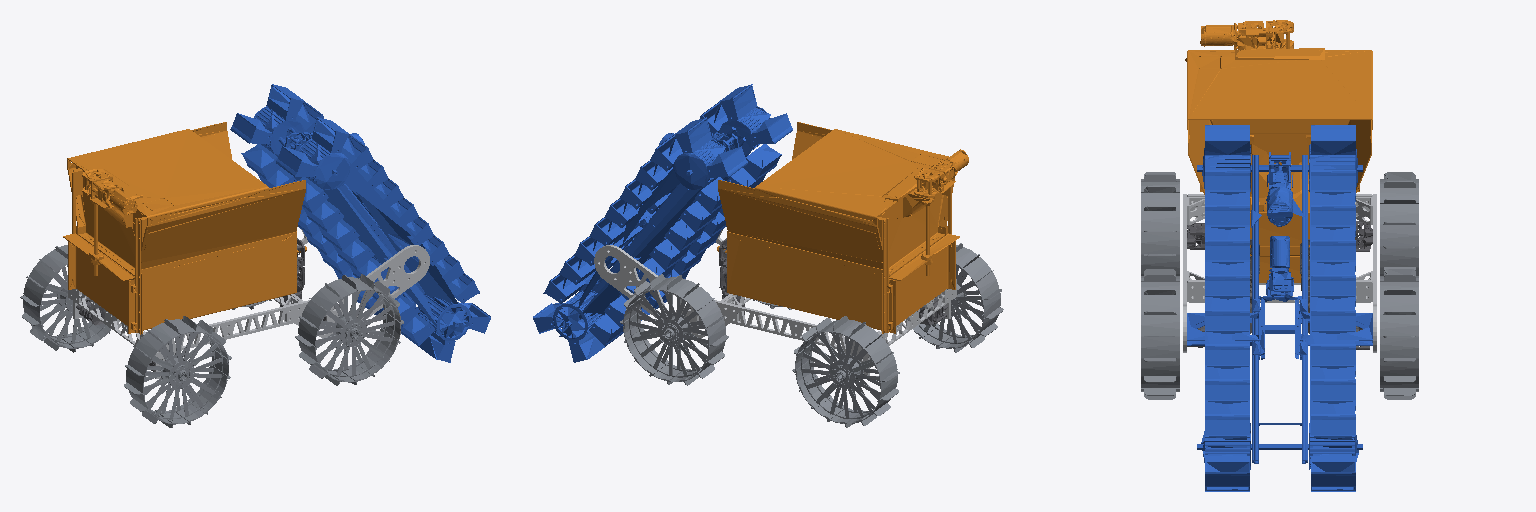
URDF robot description (lunabot_2627):
<?xml version="1.0"?>
<!-- Lunabotics 26-27 robot. Generated from 1000001 top-level STEP. Units: m, kg. Frame: X forward (mining end), Y left, Z up; base_link at mid-point of the four wheel axles. -->
<robot name="lunabot_2627">
  <material name="chassis"><color rgba="0.75 0.76 0.78 1"/></material>
  <material name="hopper_auger"><color rgba="0.85 0.55 0.2 1"/></material>
  <material name="mining"><color rgba="0.25 0.45 0.8 1"/></material>
  <material name="electronics"><color rgba="0.15 0.15 0.17 1"/></material>
  <material name="drivetrain"><color rgba="0.4 0.4 0.42 1"/></material>
  <material name="wheel"><color rgba="0.55 0.57 0.6 1"/></material>

  <link name="base_link">
    <inertial>
      <origin xyz="0.169762 -0.00404623 0.177571" rpy="0 0 0"/>
      <mass value="54.9041"/>
      <inertia ixx="2.59173" ixy="-0.141812" ixz="1.02352" iyy="6.79596" iyz="0.050353" izz="6.01457"/>
    </inertial>
    <visual name="chassis">
      <origin xyz="0 0 0" rpy="0 0 0"/>
      <geometry><mesh filename="meshes/visual/base_link_chassis.obj"/></geometry>
      <material name="chassis"/>
    </visual>
    <visual name="hopper_auger">
      <origin xyz="0 0 0" rpy="0 0 0"/>
      <geometry><mesh filename="meshes/visual/base_link_hopper_auger.obj"/></geometry>
      <material name="hopper_auger"/>
    </visual>
    <visual name="mining">
      <origin xyz="0 0 0" rpy="0 0 0"/>
      <geometry><mesh filename="meshes/visual/base_link_mining.obj"/></geometry>
      <material name="mining"/>
    </visual>
    <visual name="drivetrain">
      <origin xyz="0 0 0" rpy="0 0 0"/>
      <geometry><mesh filename="meshes/visual/base_link_drivetrain.obj"/></geometry>
      <material name="drivetrain"/>
    </visual>
    <visual name="electronics">
      <origin xyz="0 0 0" rpy="0 0 0"/>
      <geometry><mesh filename="meshes/visual/base_link_electronics.obj"/></geometry>
      <material name="electronics"/>
    </visual>
    <collision>
      <origin xyz="0 0 0" rpy="0 0 0"/>
      <geometry><mesh filename="meshes/collision/base_chassis_hull.obj"/></geometry>
    </collision>
    <collision>
      <origin xyz="0 0 0" rpy="0 0 0"/>
      <geometry><mesh filename="meshes/collision/base_hopper_auger_hull.obj"/></geometry>
    </collision>
    <collision>
      <origin xyz="0 0 0" rpy="0 0 0"/>
      <geometry><mesh filename="meshes/collision/base_mining_hull.obj"/></geometry>
    </collision>
    <collision>
      <origin xyz="0 0 0" rpy="0 0 0"/>
      <geometry><mesh filename="meshes/collision/base_drivetrain_hull.obj"/></geometry>
    </collision>
    <collision>
      <origin xyz="0 0 0" rpy="0 0 0"/>
      <geometry><mesh filename="meshes/collision/base_electronics_hull.obj"/></geometry>
    </collision>
  </link>
  <link name="wheel_front_left">
    <inertial>
      <origin xyz="4.73943e-08 0.000293136 -6.54466e-07" rpy="0 0 0"/>
      <mass value="1.1957"/>
      <inertia ixx="0.00701331" ixy="-1.77084e-09" ixz="6.74482e-12" iyy="0.0129399" iyz="1.97461e-08" izz="0.00701331"/>
    </inertial>
    <visual>
      <origin xyz="0 0 0" rpy="0 0 0"/>
      <geometry><mesh filename="meshes/visual/wheel_front_left.obj"/></geometry>
      <material name="wheel"/>
    </visual>
    <collision>
      <origin xyz="0 0 0" rpy="1.570796 0 0"/>
      <geometry><cylinder radius="0.14796" length="0.0889"/></geometry>
    </collision>
  </link>
  <joint name="wheel_front_left_joint" type="continuous">
    <parent link="base_link"/>
    <child link="wheel_front_left"/>
    <origin xyz="0.260349 0.270599 -3.08838e-06" rpy="0 0 0"/>
    <axis xyz="0 1 0"/>
    <limit effort="100" velocity="5.03"/>
    <dynamics damping="0.0" friction="0.0"/>
  </joint>
  <link name="wheel_front_right">
    <inertial>
      <origin xyz="-5.58732e-08 -0.000293146 -6.54466e-07" rpy="0 0 0"/>
      <mass value="1.1957"/>
      <inertia ixx="0.00701331" ixy="-1.77084e-09" ixz="-6.74482e-12" iyy="0.0129399" iyz="-1.97461e-08" izz="0.00701331"/>
    </inertial>
    <visual>
      <origin xyz="0 0 0" rpy="0 0 0"/>
      <geometry><mesh filename="meshes/visual/wheel_front_right.obj"/></geometry>
      <material name="wheel"/>
    </visual>
    <collision>
      <origin xyz="0 0 0" rpy="1.570796 0 0"/>
      <geometry><cylinder radius="0.14796" length="0.0889"/></geometry>
    </collision>
  </link>
  <joint name="wheel_front_right_joint" type="continuous">
    <parent link="base_link"/>
    <child link="wheel_front_right"/>
    <origin xyz="0.260349 -0.270592 -3.08838e-06" rpy="0 0 0"/>
    <axis xyz="0 1 0"/>
    <limit effort="100" velocity="5.03"/>
    <dynamics damping="0.0" friction="0.0"/>
  </joint>
  <link name="wheel_rear_left">
    <inertial>
      <origin xyz="6.02105e-07 0.000293136 -2.8163e-07" rpy="0 0 0"/>
      <mass value="1.1957"/>
      <inertia ixx="0.00701331" ixy="-1.79861e-08" ixz="1.67368e-11" iyy="0.0129399" iyz="8.33948e-09" izz="0.00701331"/>
    </inertial>
    <visual>
      <origin xyz="0 0 0" rpy="0 0 0"/>
      <geometry><mesh filename="meshes/visual/wheel_rear_left.obj"/></geometry>
      <material name="wheel"/>
    </visual>
    <collision>
      <origin xyz="0 0 0" rpy="1.570796 0 0"/>
      <geometry><cylinder radius="0.14796" length="0.0889"/></geometry>
    </collision>
  </link>
  <joint name="wheel_rear_left_joint" type="continuous">
    <parent link="base_link"/>
    <child link="wheel_rear_left"/>
    <origin xyz="-0.260351 0.270599 -3.08838e-06" rpy="0 0 0"/>
    <axis xyz="0 1 0"/>
    <limit effort="100" velocity="5.03"/>
    <dynamics damping="0.0" friction="0.0"/>
  </joint>
  <link name="wheel_rear_right">
    <inertial>
      <origin xyz="-5.8617e-07 -0.000293146 -2.8163e-07" rpy="0 0 0"/>
      <mass value="1.1957"/>
      <inertia ixx="0.00701331" ixy="-1.79861e-08" ixz="-1.67368e-11" iyy="0.0129399" iyz="-8.33948e-09" izz="0.00701331"/>
    </inertial>
    <visual>
      <origin xyz="0 0 0" rpy="0 0 0"/>
      <geometry><mesh filename="meshes/visual/wheel_rear_right.obj"/></geometry>
      <material name="wheel"/>
    </visual>
    <collision>
      <origin xyz="0 0 0" rpy="1.570796 0 0"/>
      <geometry><cylinder radius="0.14796" length="0.0889"/></geometry>
    </collision>
  </link>
  <joint name="wheel_rear_right_joint" type="continuous">
    <parent link="base_link"/>
    <child link="wheel_rear_right"/>
    <origin xyz="-0.260351 -0.270592 -3.08838e-06" rpy="0 0 0"/>
    <axis xyz="0 1 0"/>
    <limit effort="100" velocity="5.03"/>
    <dynamics damping="0.0" friction="0.0"/>
  </joint>
</robot>

--- Facts derived from the render (not from the file) ---
Views: 3 orthographic renders of the robot side by side, from view 1: azimuth 30°, elevation 25°; view 2: azimuth 150°, elevation 25°; view 3: azimuth 270°, elevation 25°.
Robot: lunabot_2627 — 5 links, 4 joints (4 continuous); root link base_link; default pose: all joints at 0.
Links seen in each view (by area): view 1: base_link, wheel_front_right, wheel_rear_right, wheel_rear_left; view 2: base_link, wheel_front_left, wheel_rear_left, wheel_rear_right; view 3: base_link, wheel_front_left, wheel_front_right, wheel_rear_right, wheel_rear_left.
Link boxes in pixels (left/top/right/bottom): base_link: left=63, top=84, right=490, bottom=378; wheel_front_right: left=295, top=274, right=403, bottom=385; wheel_rear_right: left=124, top=316, right=231, bottom=427; wheel_rear_left: left=20, top=245, right=110, bottom=352; base_link: left=533, top=84, right=968, bottom=375; wheel_front_left: left=620, top=274, right=728, bottom=385; wheel_rear_left: left=792, top=316, right=899, bottom=427; wheel_rear_right: left=913, top=243, right=1003, bottom=352; base_link: left=1183, top=20, right=1376, bottom=491; wheel_front_left: left=1380, top=269, right=1418, bottom=399; wheel_front_right: left=1141, top=269, right=1179, bottom=399; wheel_rear_right: left=1141, top=172, right=1179, bottom=275; wheel_rear_left: left=1380, top=172, right=1418, bottom=275.
Size in the robot's own frame: 1.16 by 0.6301 by 0.7519 metres.
Meshes: 9 distinct files referenced, 8 mesh visuals loaded (8 OBJ); not drawn: 1 (reference not matched to a file when rendering).
